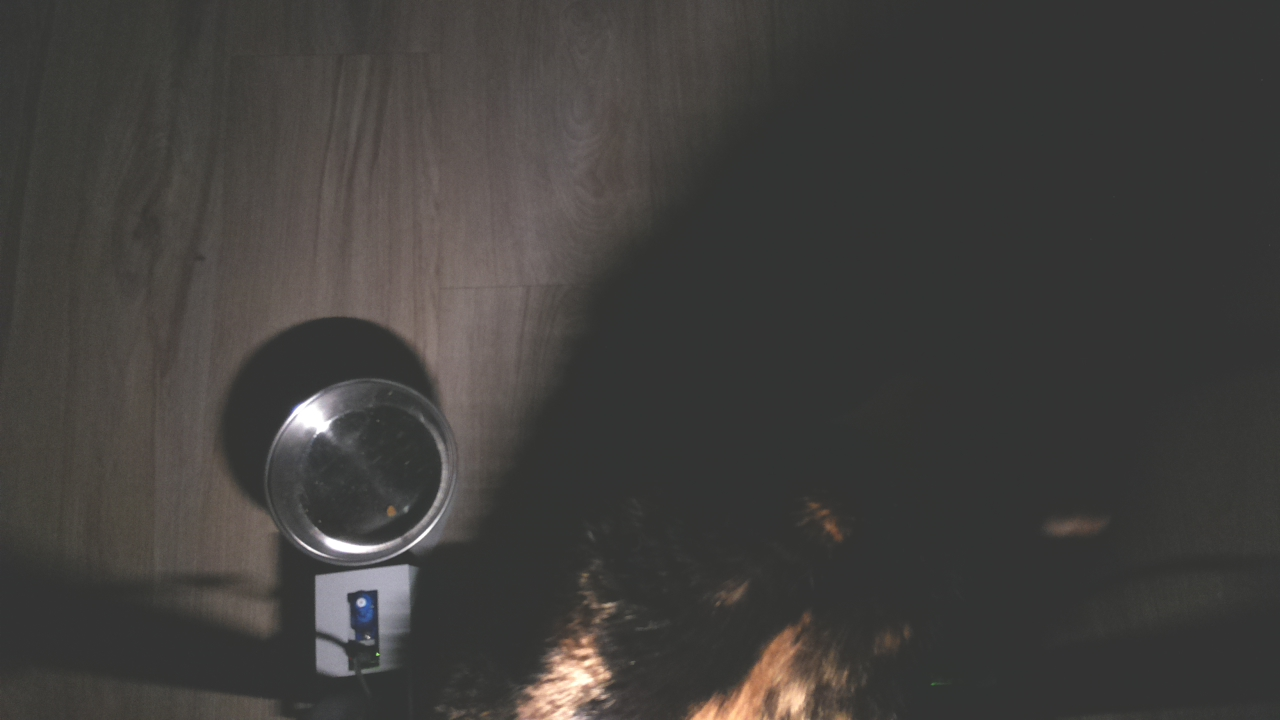open_bowl: (255, 370, 471, 582)
